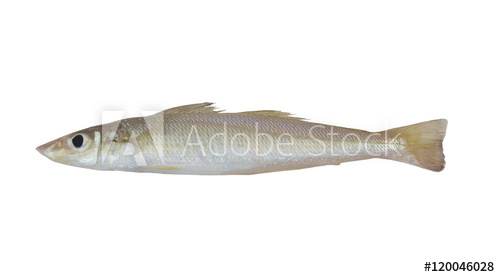kiss: (33, 98, 453, 180)
